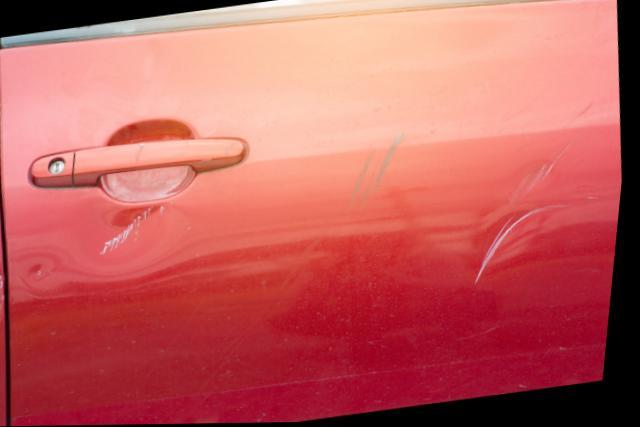dent: (67, 195, 168, 264), (31, 260, 61, 284), (0, 250, 9, 328)
scratch: (467, 137, 579, 290)
